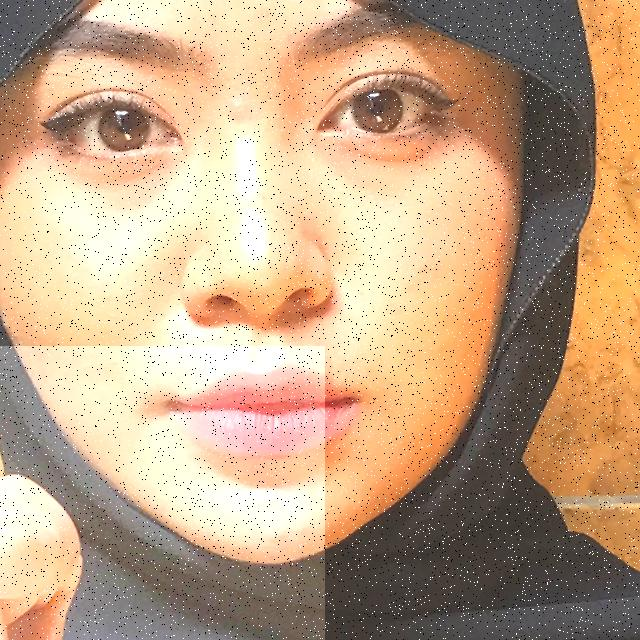kamu: (0, 346, 325, 640)
